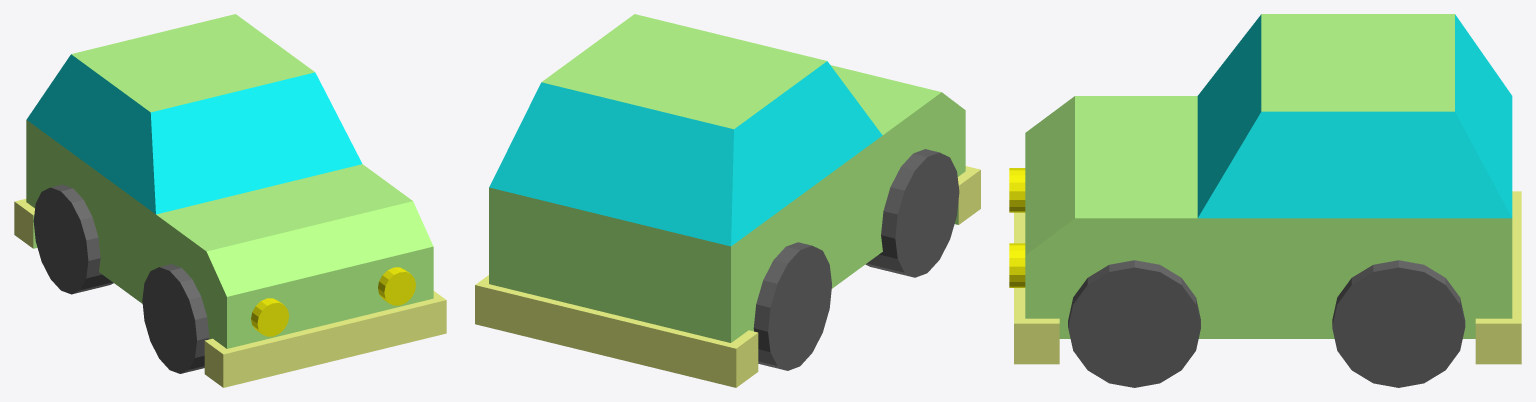
The model's file is Car.fbx.
3 views of the same model, side by side, from view 1: azimuth 30°, elevation 25°; view 2: azimuth 150°, elevation 25°; view 3: azimuth 270°, elevation 25° (orthographic). The views are drawn at different scales.
Parts seen in each view (by area): view 1: Cube; view 2: Cube; view 3: Cube.
Part boxes in pixels (x1,y1,x2,y2): Cube: (14, 14, 446, 387); Cube: (475, 14, 980, 387); Cube: (1009, 14, 1521, 387).
Size of the model in its own units: 0.9463 by 0.8272 by 1.5.
